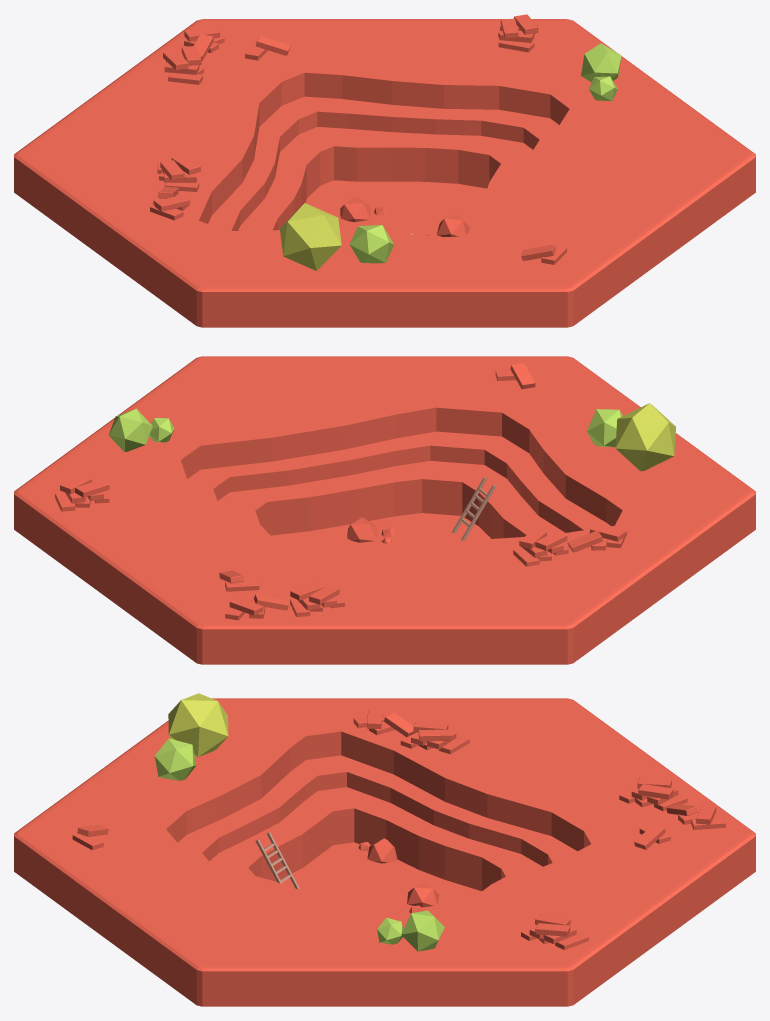
Rendered from basetile_claypit.fbx.
3 renders of one model, top to bottom at view 1: azimuth 30°, elevation 25°; view 2: azimuth 150°, elevation 25°; view 3: azimuth 270°, elevation 25°, orthographic.
Parts seen in each view (by area): view 1: BasePlate, Icosphere.010, Icosphere.009, Cube.002, Cube.003, Cube.006, Icosphere.007, Cube.004, Cube.001, Icosphere, Icosphere.008, Icosphere.003; view 2: BasePlate, Icosphere.010, Cube.006, Cube.003, Cube.002, Icosphere.007, Cube.004, Cube.001, Icosphere.009, Cube, Icosphere.003; view 3: BasePlate, Icosphere.010, Cube.003, Cube.002, Cube.006, Icosphere.009, Icosphere.007, Cube.001, Cube.004, Cube, Icosphere, Icosphere.008 (+1 smaller).
Boxes of the visible parts, x1,y1,x2,y2 form: BasePlate: (14, 19, 755, 327); Icosphere.010: (279, 203, 341, 270); Icosphere.009: (349, 225, 394, 263); Cube.002: (163, 46, 203, 84); Cube.003: (157, 154, 200, 191); Cube.006: (498, 14, 538, 52); Icosphere.007: (581, 43, 621, 82); Cube.004: (150, 186, 189, 220); Cube.001: (184, 26, 224, 60); Icosphere: (340, 196, 370, 222); Icosphere.008: (589, 76, 617, 100); Icosphere.003: (437, 214, 469, 236); BasePlate: (14, 356, 755, 664); Icosphere.010: (615, 403, 675, 471); Cube.006: (55, 475, 109, 511); Cube.003: (513, 528, 568, 566); Cube.002: (290, 582, 344, 616); Icosphere.007: (108, 408, 152, 451); Cube.004: (567, 524, 626, 552); Cube.001: (225, 594, 288, 620); Icosphere.009: (587, 409, 622, 447); Cube: (452, 477, 495, 540); Icosphere.003: (347, 517, 378, 542); BasePlate: (14, 698, 755, 1006); Icosphere.010: (168, 693, 228, 756); Cube.003: (400, 721, 469, 754); Cube.002: (619, 777, 687, 811); Cube.006: (521, 914, 588, 949); Icosphere.009: (154, 738, 196, 780); Icosphere.007: (401, 910, 444, 951); Cube.001: (666, 803, 725, 829); Cube.004: (353, 709, 416, 737); Cube: (255, 832, 299, 889); Icosphere: (407, 882, 438, 907); Icosphere.008: (377, 917, 403, 944).
Bounding box in the file's own units: 177 × 42.16 × 204.
